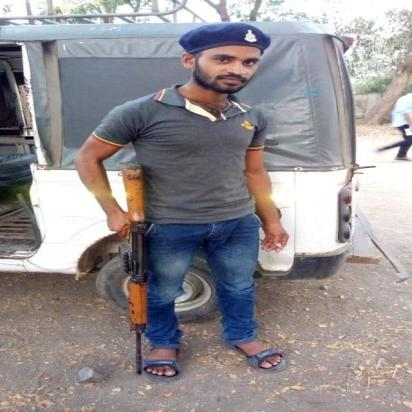Gun: (116, 161, 152, 378)
